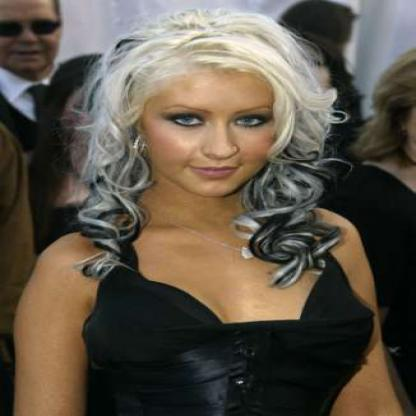face: (139, 33, 289, 198), (1, 1, 66, 75)
